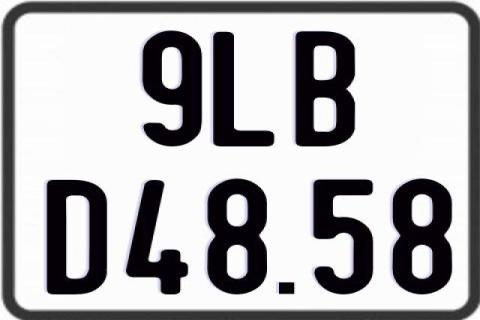0: (142, 29, 208, 149), (206, 179, 269, 299), (126, 178, 190, 296), (389, 179, 453, 297), (310, 178, 371, 294)
B: (296, 30, 356, 146)
D: (45, 180, 110, 298)
L: (210, 31, 275, 148)
